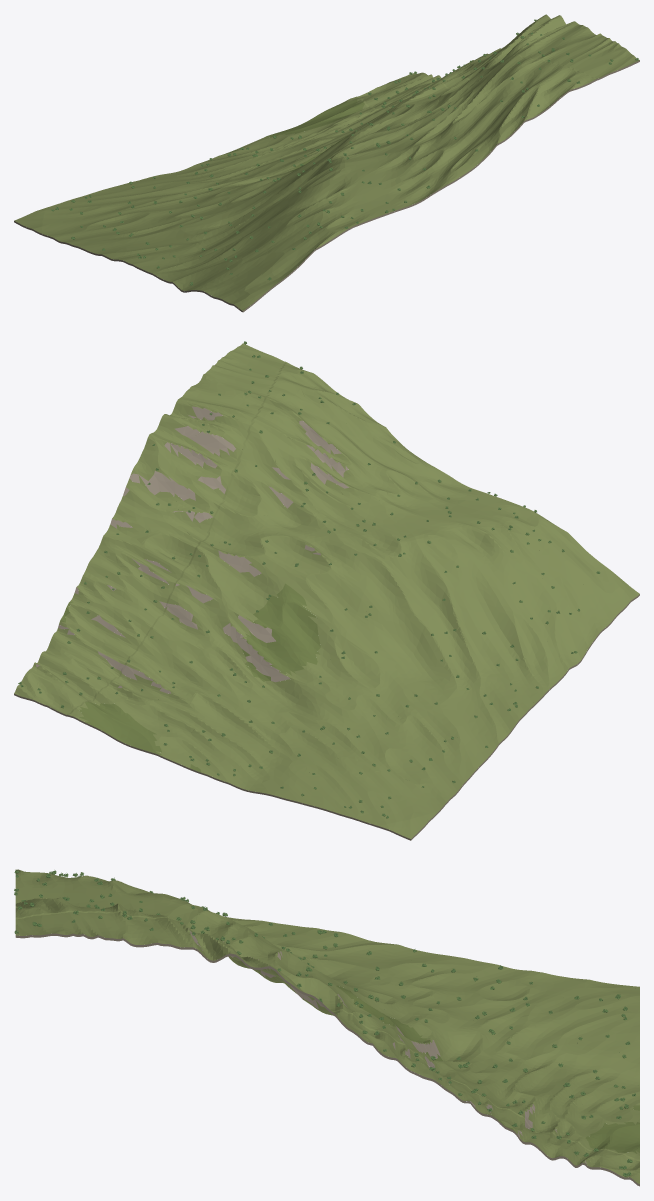
File: parca_+4_-6-yakin.glb
3 renders of one model, top to bottom at view 1: azimuth 30°, elevation 25°; view 2: azimuth 150°, elevation 25°; view 3: azimuth 270°, elevation 25°, orthographic. The views are drawn at different scales.
Parts seen in each view (by area): view 1: parca_+4_-6_arazi, parca_+4_-6_bitkiler; view 2: parca_+4_-6_arazi, parca_+4_-6_bitkiler; view 3: parca_+4_-6_arazi, parca_+4_-6_bitkiler.
Boxes of the visible parts, x1,y1,x2,y2 form: parca_+4_-6_arazi: [14, 14, 639, 312]; parca_+4_-6_bitkiler: [51, 19, 638, 285]; parca_+4_-6_arazi: [14, 343, 639, 840]; parca_+4_-6_bitkiler: [18, 341, 600, 818]; parca_+4_-6_arazi: [15, 869, 639, 1186]; parca_+4_-6_bitkiler: [14, 870, 635, 1176].
Bounding box in the file's own units: 1003 × 568 × 1003.
